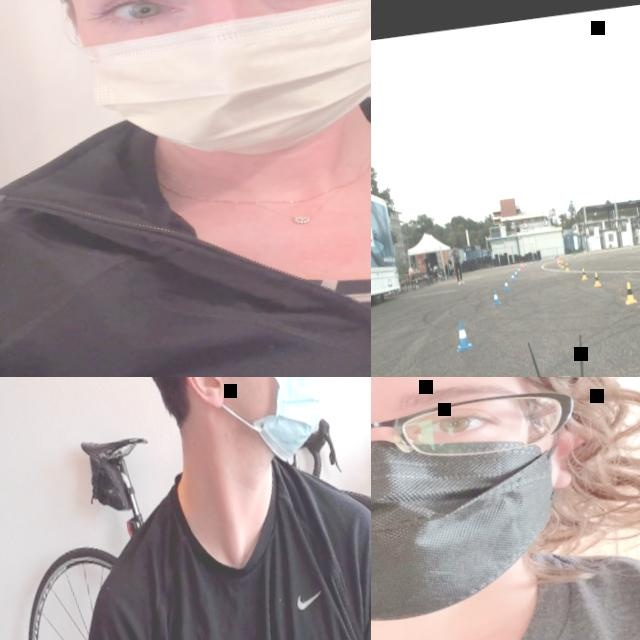Mask: (61, 0, 371, 177), (371, 418, 585, 640), (198, 377, 334, 472)
NO-Hardhat: (453, 243, 457, 247), (410, 264, 414, 267), (425, 254, 427, 257), (434, 263, 436, 266), (438, 267, 440, 270)
NO-Safety Vest: (0, 97, 371, 377), (110, 463, 371, 640), (371, 538, 640, 640), (454, 249, 461, 262), (425, 258, 429, 267), (409, 269, 414, 276), (427, 266, 432, 273)
Person: (0, 0, 371, 377), (2, 377, 371, 640), (371, 377, 640, 640), (451, 242, 465, 285), (408, 263, 420, 289), (426, 261, 440, 283), (436, 266, 444, 278), (423, 254, 429, 267), (450, 262, 454, 277), (433, 263, 439, 271)
Safety Cone: (453, 320, 473, 351), (622, 280, 638, 304), (491, 289, 501, 305), (593, 272, 602, 287), (580, 267, 588, 280), (503, 279, 510, 290), (510, 272, 515, 281), (565, 262, 570, 271), (520, 260, 524, 270), (514, 269, 518, 277), (517, 266, 521, 273), (560, 261, 564, 268), (558, 260, 562, 266), (557, 256, 559, 265), (610, 247, 613, 252), (629, 244, 632, 249), (523, 263, 525, 269), (530, 261, 533, 265), (566, 255, 569, 259), (574, 253, 577, 257), (588, 250, 591, 254), (559, 257, 561, 262), (561, 256, 563, 261), (453, 260, 455, 265), (525, 262, 527, 266), (541, 258, 543, 262), (551, 256, 553, 260), (451, 264, 453, 268)
vehicle: (371, 295, 640, 377)
